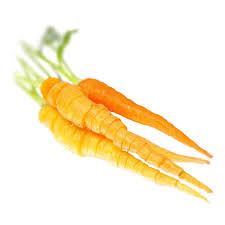carrot: (33, 76, 212, 195), (29, 102, 211, 205), (66, 66, 217, 161)
